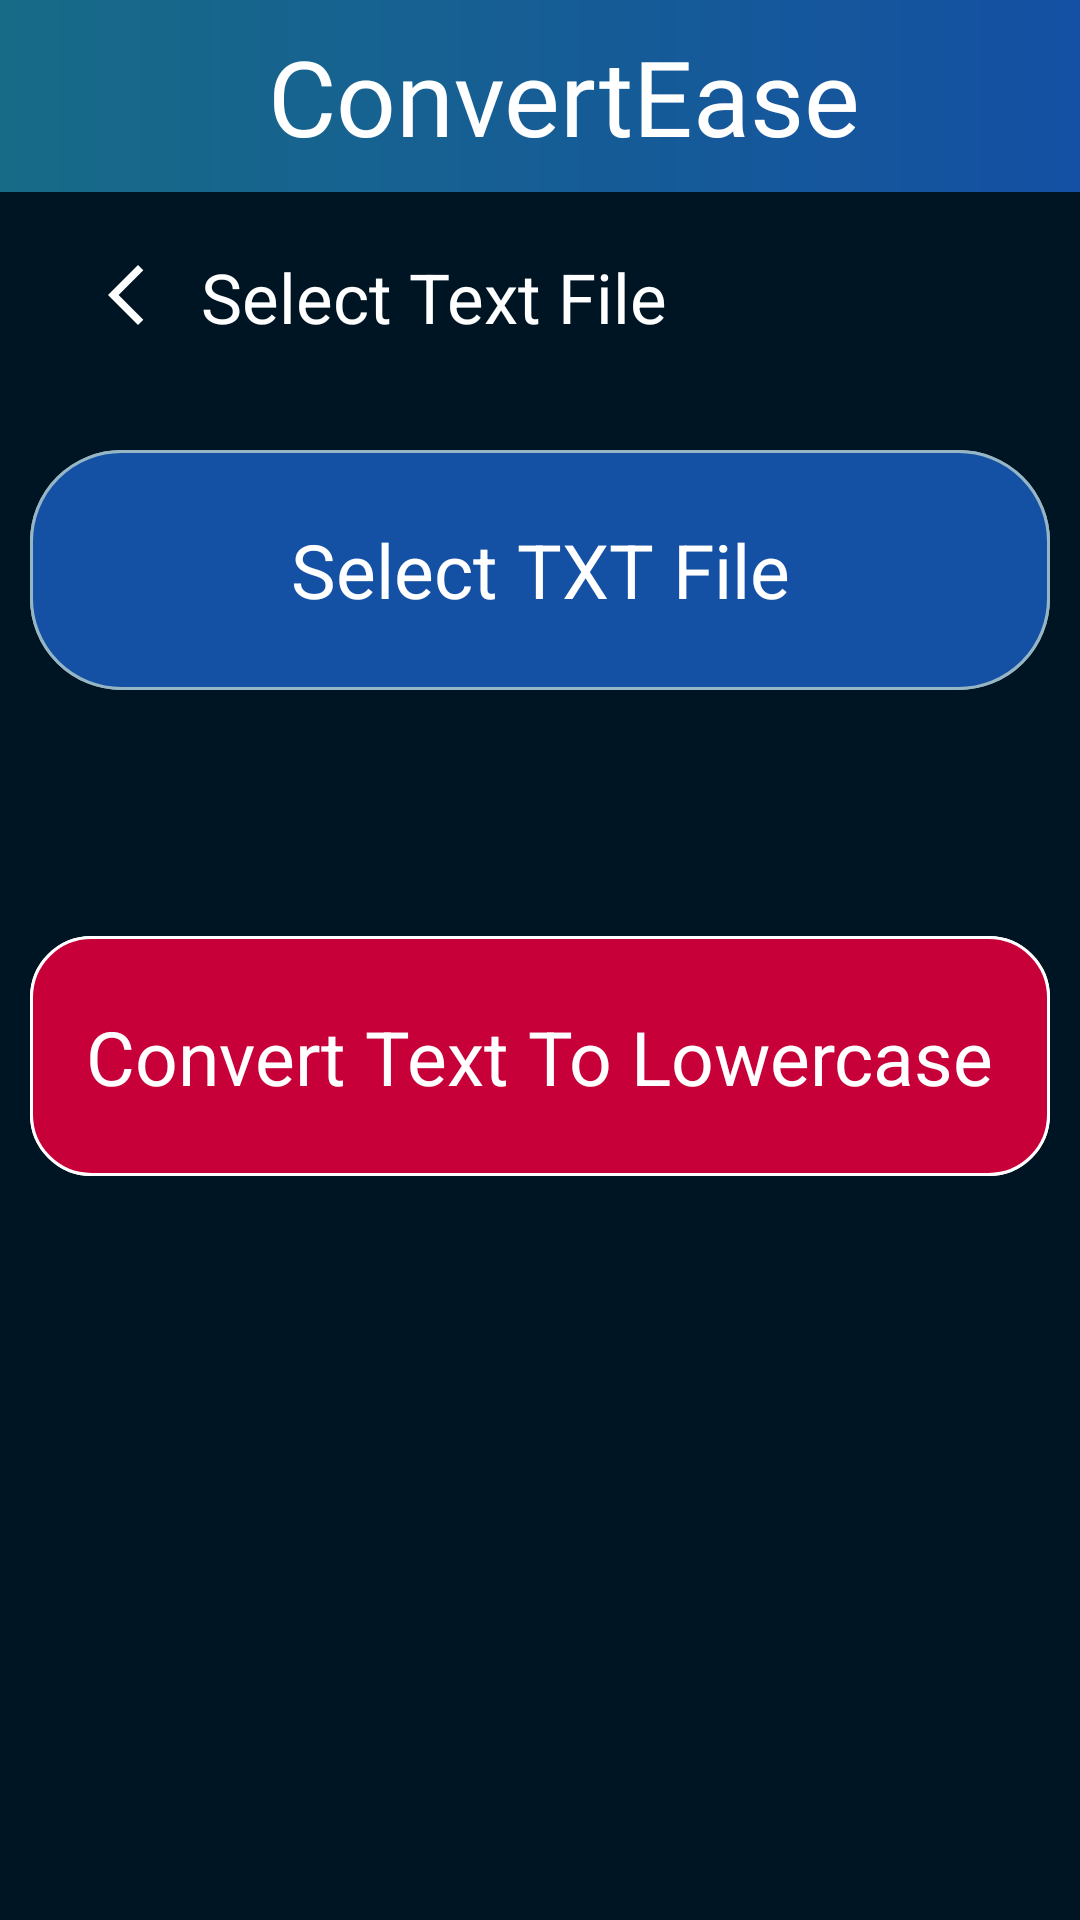

Icons on this 1080 × 1920 Android screen, each with its box as (x1, y1, x2, y2):
arrow back: (108, 265, 143, 325)
